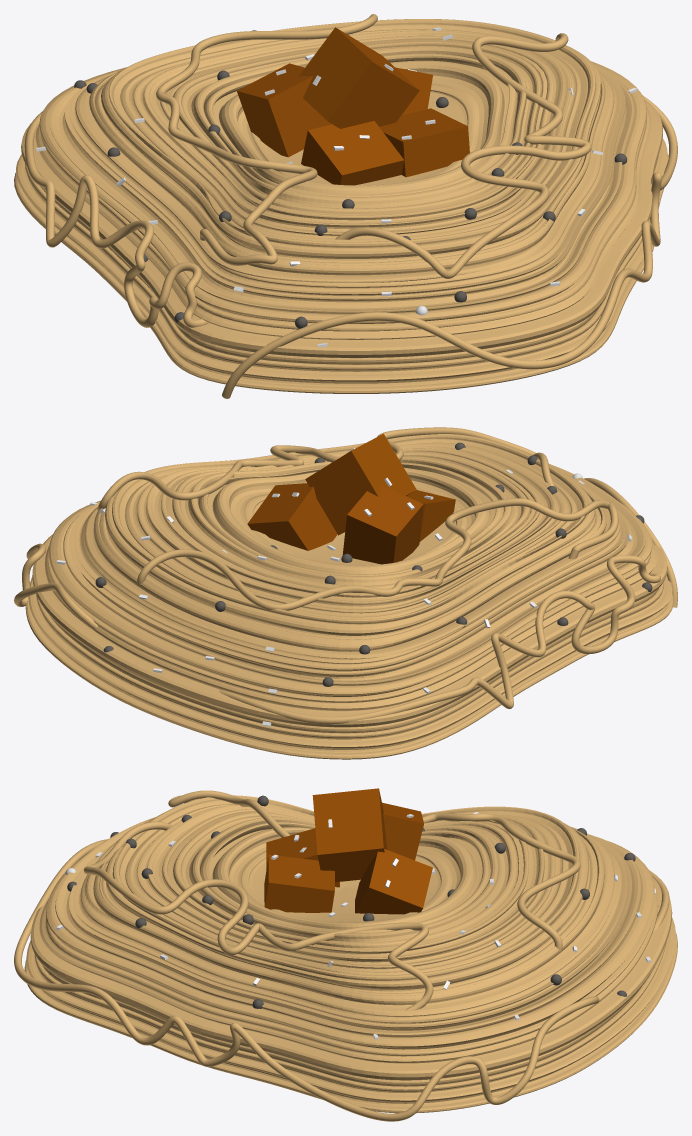
Rendered from Carbonara.fbx.
3 renders of one model, top to bottom at view 1: azimuth 30°, elevation 25°; view 2: azimuth 150°, elevation 25°; view 3: azimuth 270°, elevation 25°, orthographic. The views are drawn at different scales.
Visible parts, largest first — view 1: Pasta, meat.004, spath.002, NurbsPath, spath, spath.001, meat.002, meat.003, meat, meat.001; view 2: Pasta, spath.001, spath, meat.004, meat.002, spath.002, meat.001, NurbsPath, meat.003; view 3: Pasta, NurbsPath, meat.004, spath.002, meat.001, spath, meat, meat.002, meat.003.
Boxes of the visible parts, x1,y1,x2,y2 form: Pasta: (14, 19, 668, 393); meat.004: (299, 27, 419, 128); spath.002: (335, 33, 591, 278); NurbsPath: (222, 95, 677, 398); spath: (156, 14, 377, 265); spath.001: (24, 111, 208, 327); meat.002: (237, 63, 331, 157); meat.003: (301, 120, 404, 185); meat: (379, 108, 469, 177); meat.001: (395, 67, 432, 115); Pasta: (25, 434, 673, 759); spath.001: (219, 555, 660, 724); spath: (137, 498, 618, 610); meat.004: (305, 433, 416, 535); meat.002: (342, 485, 423, 564); spath.002: (97, 427, 554, 510); meat.001: (247, 483, 337, 550); NurbsPath: (14, 478, 677, 629); meat.003: (407, 490, 455, 541); Pasta: (24, 795, 677, 1113); NurbsPath: (14, 839, 599, 1121); meat.004: (312, 788, 387, 882); spath.002: (84, 821, 433, 1016); meat.001: (355, 849, 432, 914); spath: (168, 790, 580, 951); meat: (264, 854, 334, 912); meat.002: (382, 802, 423, 860); meat.003: (266, 828, 339, 887).
Bounding box in the file's own units: 158 × 53.77 × 167.
